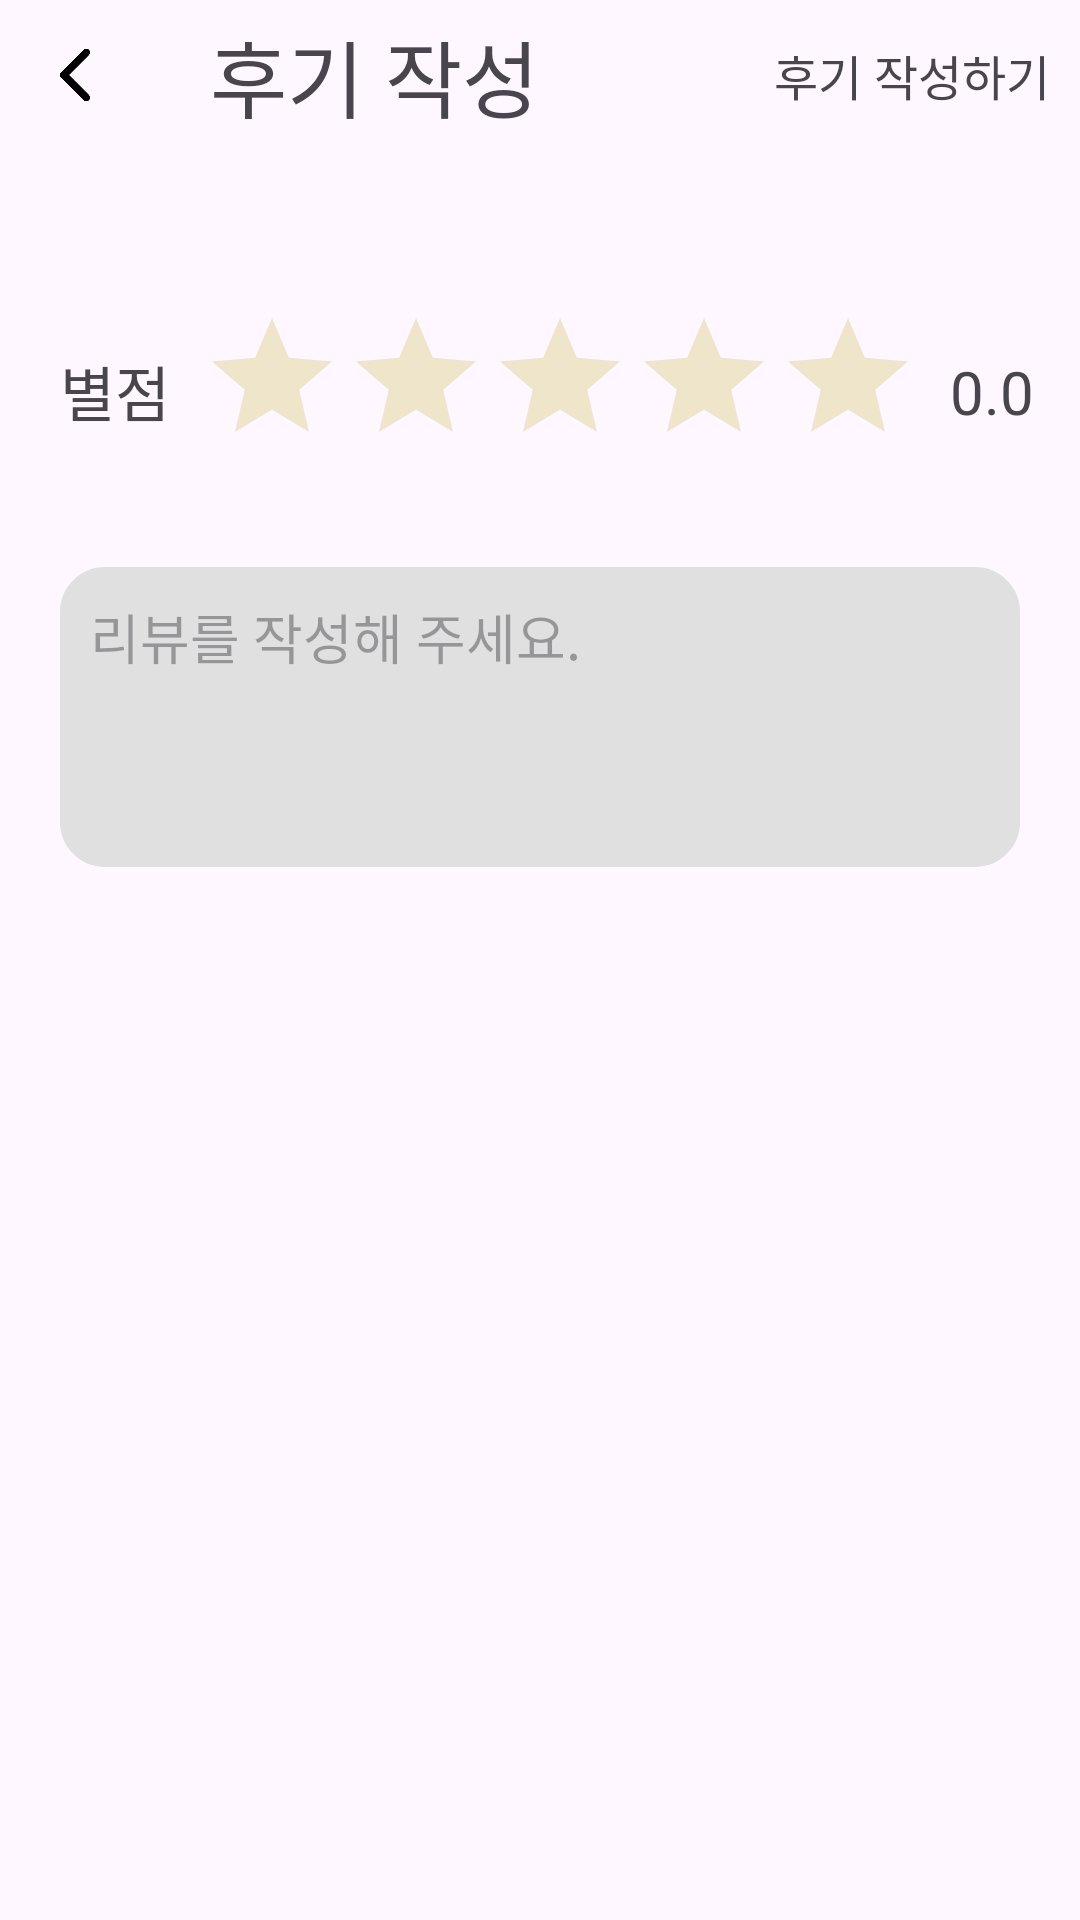

Icons on this 1080×1920 Android screen, each with the point to tap as (x,y):
back: (75,75)
